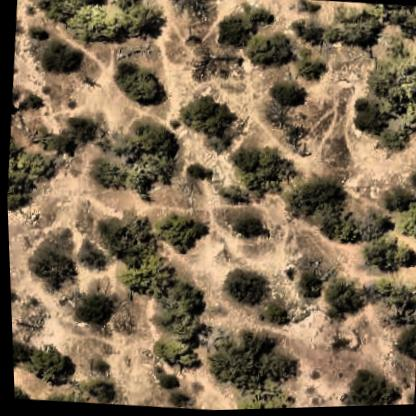tree-top: (204, 327, 298, 392), (117, 117, 186, 193), (227, 143, 294, 204), (92, 210, 153, 270), (4, 144, 57, 213), (323, 2, 389, 55), (156, 274, 208, 334), (280, 176, 339, 228), (67, 0, 129, 49), (113, 60, 169, 111), (18, 340, 77, 388), (25, 238, 79, 290), (178, 90, 234, 140), (357, 231, 412, 280), (353, 94, 416, 136), (151, 210, 207, 256), (316, 272, 366, 323), (129, 120, 182, 168), (369, 51, 416, 103), (243, 29, 295, 74), (218, 267, 268, 311), (345, 368, 398, 408), (152, 332, 197, 376), (231, 381, 294, 411), (371, 274, 415, 316), (71, 289, 115, 330), (63, 106, 105, 148), (42, 40, 86, 80), (113, 260, 157, 300), (123, 0, 166, 40), (357, 202, 396, 244), (73, 375, 123, 407), (321, 215, 364, 251), (88, 152, 125, 192), (293, 51, 330, 89), (216, 15, 254, 51), (244, 0, 282, 36), (270, 76, 307, 112), (380, 4, 416, 41), (230, 208, 265, 242), (36, 0, 80, 27), (384, 238, 416, 275), (373, 129, 414, 157), (379, 188, 416, 216), (390, 323, 416, 362), (44, 129, 75, 159), (258, 301, 289, 330), (394, 204, 416, 244), (25, 19, 53, 48), (153, 367, 182, 393), (296, 0, 328, 19), (166, 388, 193, 410), (10, 335, 24, 370), (116, 0, 149, 7)
